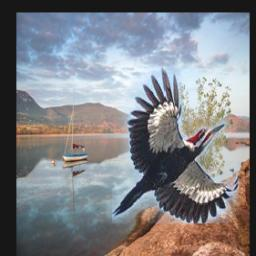Woodpecker: (113, 66, 240, 223)
